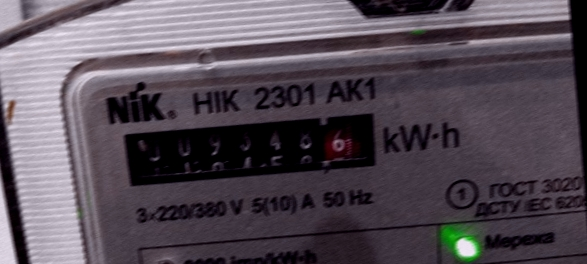0: (176, 133, 193, 157), (146, 135, 161, 162)
3: (237, 127, 253, 154)
4: (267, 124, 283, 152)
6: (329, 126, 348, 154)
8: (296, 123, 314, 152)
9: (206, 130, 223, 157)
screen: (114, 105, 388, 196)
